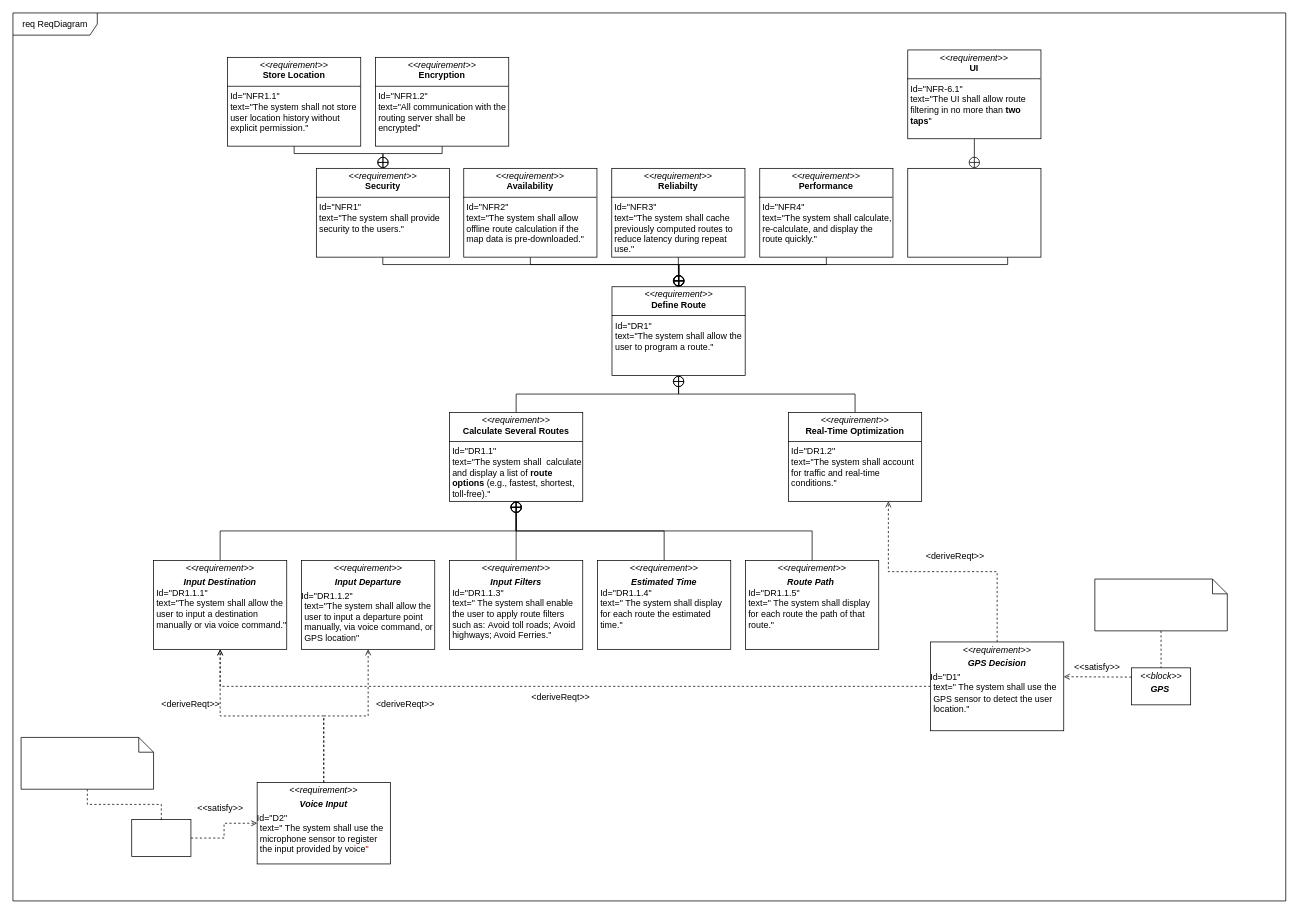
Image size: 1299x914. Some labels were removed from this diagram. Here are the shapes that lost their labels. From the top down, the centre of each, then its label:
[974,212]: <<requirement>> Usability Id="NFR-6.1" text="The system shall be easy to use."
[1160,604]: satisfies <<requirement>> GPS Decision
[87,763]: satisfies <<requirement>> Voice Input
[161,838]: <<block>> Microphone
